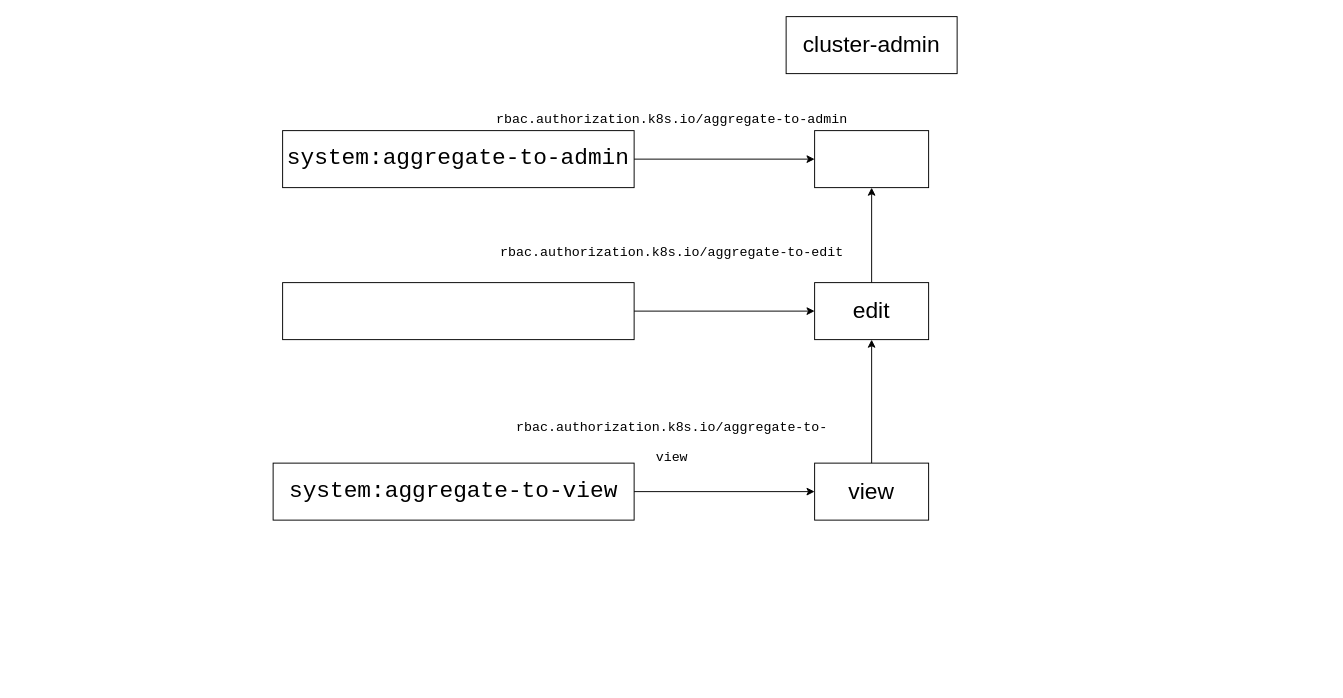
Image size: 1343x698. Some labels were removed from this diagram. Here are the shapes that lost their labels. From the top down, the centre of each, then its label:
At point 871,159: "admin".
At point 458,311: "system:aggregate-to-edit".
